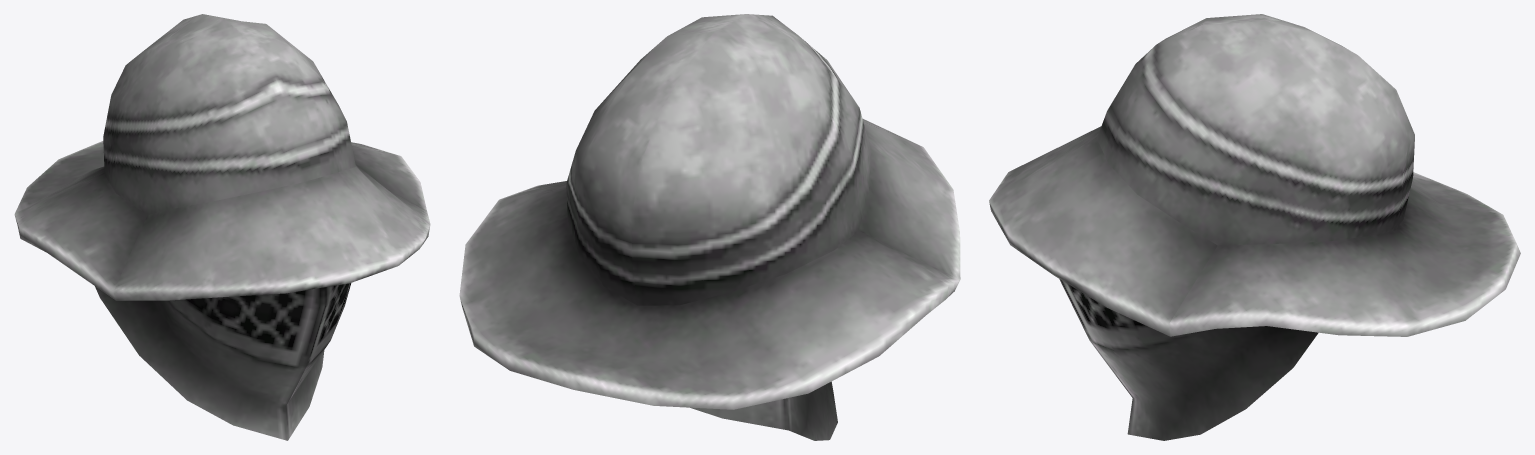
The model's file is helmet-mediuminfantry.glb.
3 views of the same model, side by side, from view 1: azimuth 30°, elevation 25°; view 2: azimuth 150°, elevation 25°; view 3: azimuth 270°, elevation 25° (orthographic). The views are drawn at different scales.
Bounding box in the file's own units: 0.412 × 0.4168 × 0.4858.
1 material, 1 textured.
